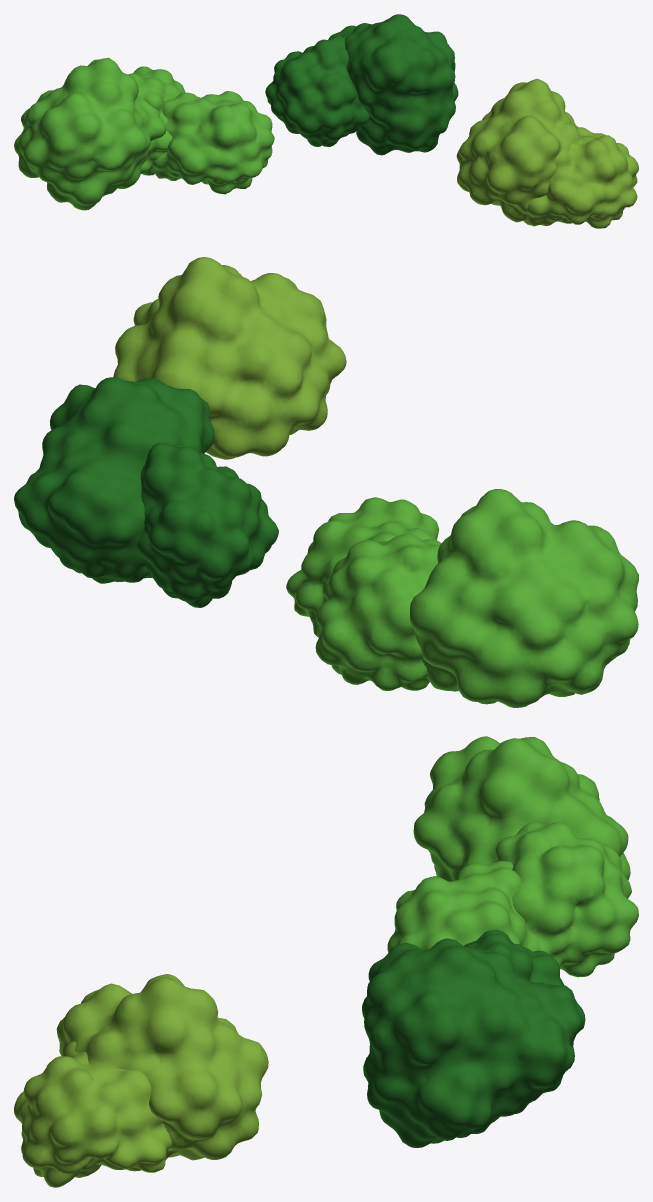
File: Bushes.fbx
The picture shows the model from 3 angles, top to bottom: view 1: azimuth 30°, elevation 25°; view 2: azimuth 150°, elevation 25°; view 3: azimuth 270°, elevation 25°; orthographic projection. The views are drawn at different scales.
Parts seen in each view (by area): view 1: pasted__polySurface26, polySurface19, pasted__polySurface27; view 2: pasted__polySurface26, polySurface19, pasted__polySurface27; view 3: pasted__polySurface26, pasted__polySurface27, polySurface19.
Boxes of the visible parts, x1,y1,x2,y2 form: pasted__polySurface26: (14, 57, 274, 210); polySurface19: (265, 14, 458, 155); pasted__polySurface27: (456, 78, 638, 228); pasted__polySurface26: (286, 489, 638, 707); polySurface19: (14, 377, 278, 607); pasted__polySurface27: (113, 257, 346, 459); pasted__polySurface26: (387, 736, 638, 977); pasted__polySurface27: (14, 974, 268, 1187); polySurface19: (362, 930, 585, 1147).
Size of the model in its own units: 63.23 by 18.11 by 49.93.
